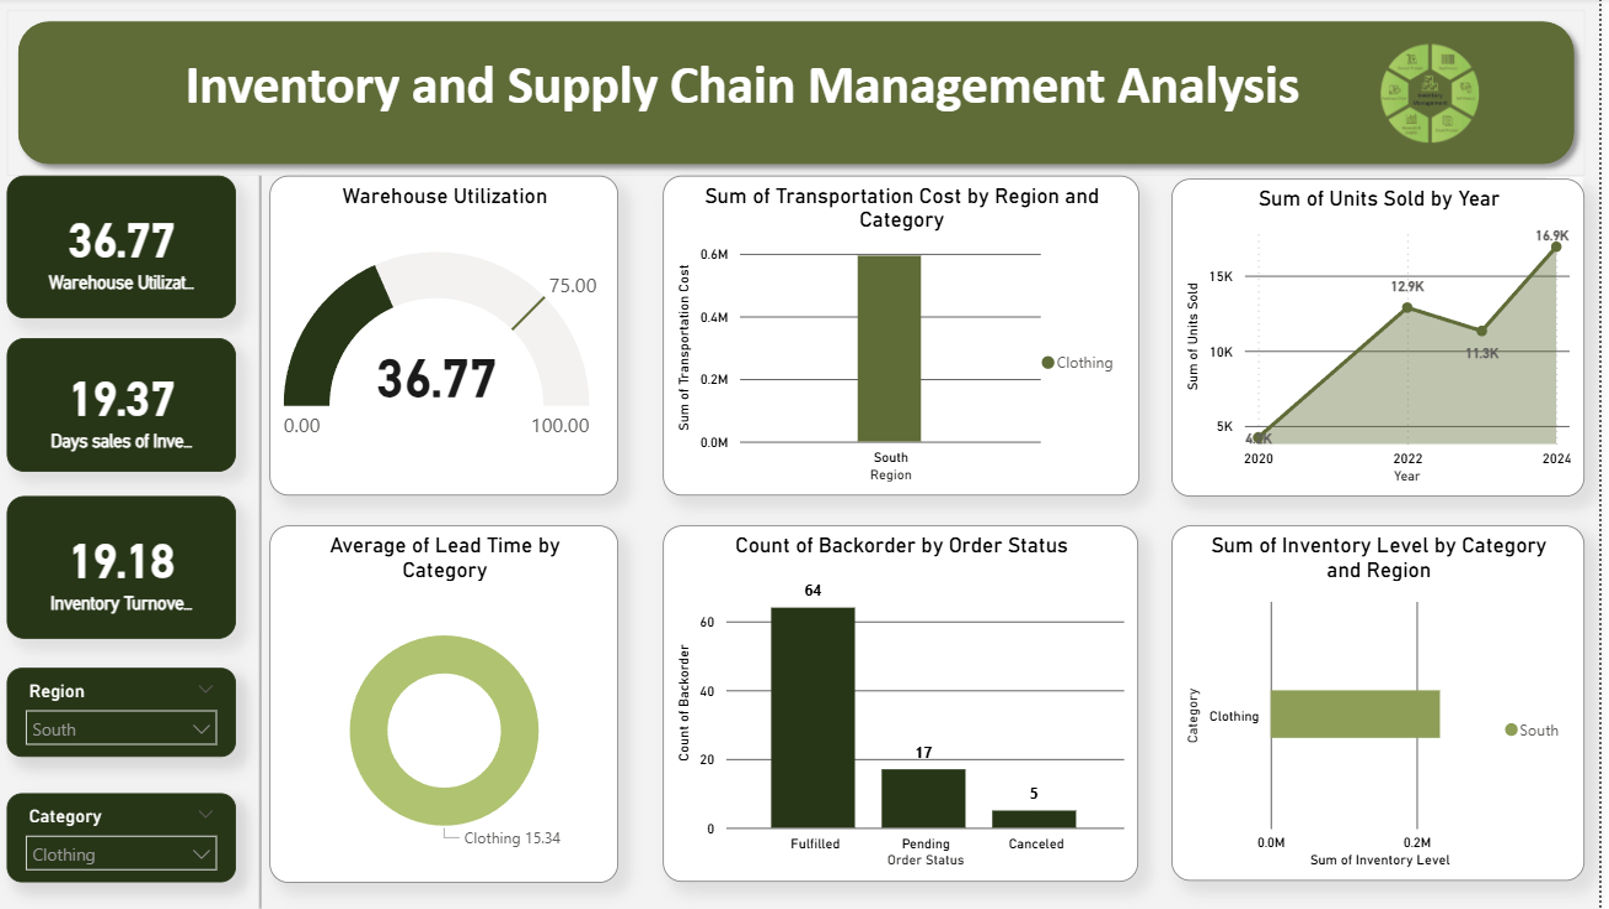

Layout of this report page (visuals, bound fields, positions):
{"tool":"powerbi","page":{"name":"Page 1","canvas":[1280,720],"ordinal":0},"visuals":[{"type":"shape","box":[11.8,10.3,1256.3,130.8],"z":0},{"type":"textbox","box":[133.7,38.2,928.7,74.9],"z":1000},{"type":"image","box":[1049.1,25,191,102.9],"z":2000},{"type":"shape","box":[207.2,141.1,14.7,578.9],"z":3000},{"type":"card","fields":{"Values":["Inventory and Supply Chain Dataset.Warehouse Utilization"]},"box":[11.8,141.1,182.2,113.1],"z":4000},{"type":"card","fields":{"Values":["Inventory and Supply Chain Dataset.Days sales of Inventory"]},"box":[11.8,268.9,182.2,105.8],"z":5000},{"type":"card","fields":{"Values":["Inventory and Supply Chain Dataset.Inventory Turnover Ratio"]},"box":[11.8,393.8,182.2,113.1],"z":6000},{"type":"slicer","fields":{"Values":["Inventory and Supply Chain Dataset.Region"]},"box":[11.8,529,182.2,70.5],"z":7000},{"type":"slicer","fields":{"Values":["Inventory and Supply Chain Dataset.Category"]},"box":[11.8,628.9,182.2,70.5],"z":8000},{"type":"gauge","fields":{"Y":["Inventory and Supply Chain Dataset.Warehouse Utilization"]},"box":[221.9,141.1,277.7,252.7],"z":9000},{"type":"clusteredColumnChart","fields":{"Y":["Sum(Inventory and Supply Chain Dataset.Transportation Cost)"],"Category":["Inventory and Supply Chain Dataset.Region"],"Series":["Inventory and Supply Chain Dataset.Category"]},"box":[534.9,141.1,379.1,252.7],"z":10000},{"type":"lineChart","fields":{"Y":["Sum(Inventory and Supply Chain Dataset.Units Sold)"],"Category":["Inventory and Supply Chain Dataset.Date.Variation.Date Hierarchy.Year"]},"box":[938.9,142.5,329.1,251.3],"z":11000},{"type":"donutChart","fields":{"Y":["Avg(Inventory and Supply Chain Dataset.Lead Time)"],"Category":["Inventory and Supply Chain Dataset.Category"]},"box":[221.9,417.3,277.7,282.1],"z":12000},{"type":"columnChart","fields":{"Y":["CountNonNull(Inventory and Supply Chain Dataset.Backorder)"],"Category":["Inventory and Supply Chain Dataset.Order Status"]},"box":[534.3,417.1,378.6,281.4],"z":13000},{"type":"clusteredBarChart","fields":{"Y":["Sum(Inventory and Supply Chain Dataset.Inventory Level)"],"Category":["Inventory and Supply Chain Dataset.Category"],"Series":["Inventory and Supply Chain Dataset.Region"]},"box":[939,417,329,281],"z":14000}]}

Visuals, with their boxes in screenshot pixels (x1, y1, x2, y2), scaled from the page's 1280x720 canvas onto the 1609x909 screenshot:
shape: box(15, 13, 1594, 178)
textbox: box(168, 48, 1335, 143)
image: box(1319, 32, 1559, 161)
shape: box(260, 178, 279, 908)
card - Inventory and Supply Chain Dataset.Warehouse Utilization: box(15, 178, 244, 321)
card - Inventory and Supply Chain Dataset.Days sales of Inventory: box(15, 339, 244, 473)
card - Inventory and Supply Chain Dataset.Inventory Turnover Ratio: box(15, 497, 244, 640)
slicer - Inventory and Supply Chain Dataset.Region: box(15, 668, 244, 757)
slicer - Inventory and Supply Chain Dataset.Category: box(15, 794, 244, 883)
gauge - Inventory and Supply Chain Dataset.Warehouse Utilization: box(279, 178, 628, 497)
clusteredColumnChart - Sum(Inventory and Supply Chain Dataset.Transportation Cost) x Inventory and Supply Chain Dataset.Region: box(672, 178, 1149, 497)
lineChart - Sum(Inventory and Supply Chain Dataset.Units Sold) x Inventory and Supply Chain Dataset.Date.Variation.Date Hierarchy.Year: box(1180, 180, 1594, 497)
donutChart - Avg(Inventory and Supply Chain Dataset.Lead Time) x Inventory and Supply Chain Dataset.Category: box(279, 527, 628, 883)
columnChart - CountNonNull(Inventory and Supply Chain Dataset.Backorder) x Inventory and Supply Chain Dataset.Order Status: box(672, 527, 1148, 882)
clusteredBarChart - Sum(Inventory and Supply Chain Dataset.Inventory Level) x Inventory and Supply Chain Dataset.Category: box(1180, 526, 1594, 881)
